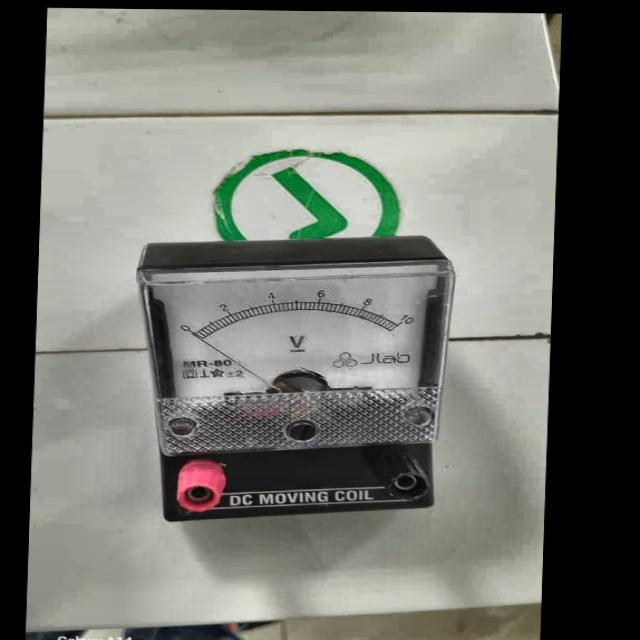Voltmeter: (110, 238, 459, 534)
